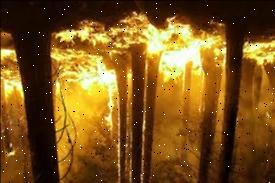fire: (0, 10, 153, 107), (156, 11, 275, 109)
